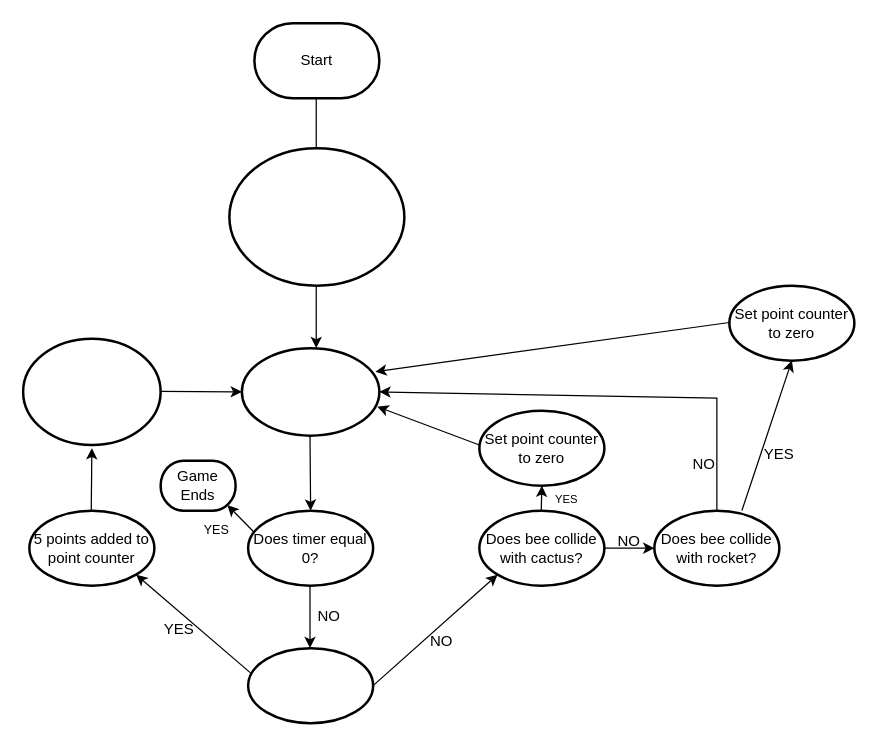
The diagram is 876 pixels wide and 745 high, and some of its shapes have lost their labels. Each missing label, with the centre of its shape:
"Does bee collide with flower?" belongs at (310,685).
"Flower actor 15-second cooldown initiated" belongs at (91,391).
"Get player input and move bumblebee actor" belongs at (310,391).
"Timer starts counting down from 1 minute and point counter is set to 0." belongs at (316,216).
